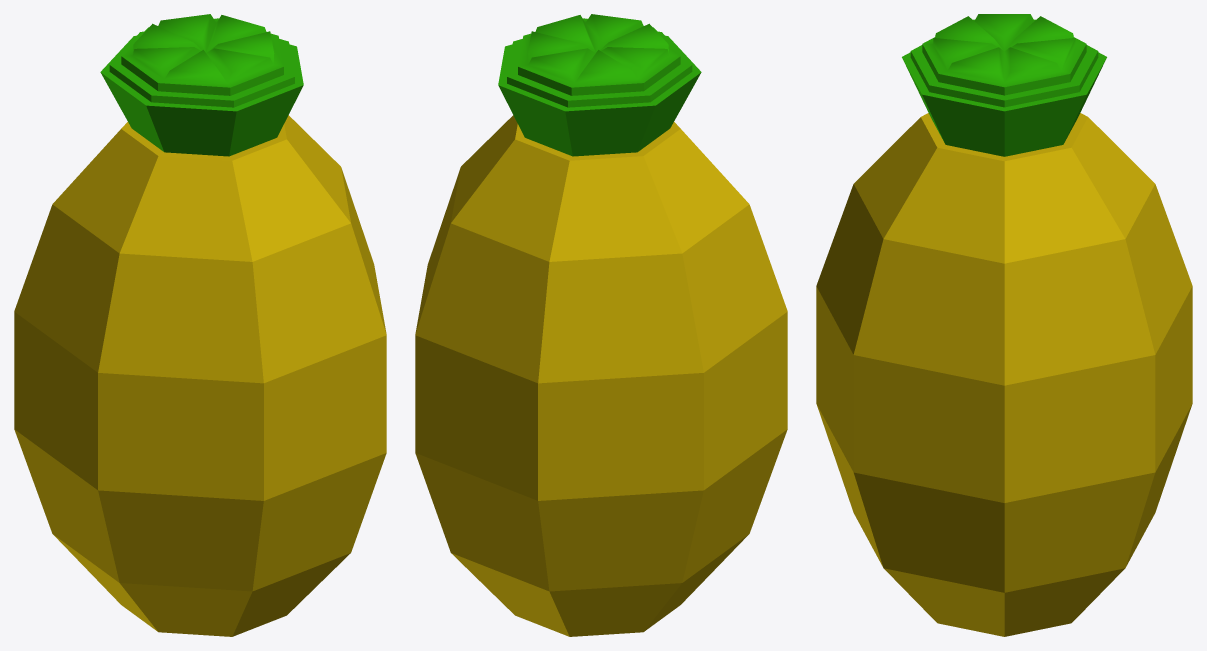
Rendered from pineapple.fbx.
3 views of the same model, side by side, from view 1: azimuth 30°, elevation 25°; view 2: azimuth 150°, elevation 25°; view 3: azimuth 270°, elevation 25° (orthographic).
Visible parts, largest first — view 1: pineapple; view 2: pineapple; view 3: pineapple.
Part boxes in pixels (bbox=[...]): pineapple: bbox=[14, 14, 386, 636]; pineapple: bbox=[415, 14, 787, 636]; pineapple: bbox=[816, 14, 1192, 636].
Bounding box in the file's own units: 65.46 × 115 × 67.14.
